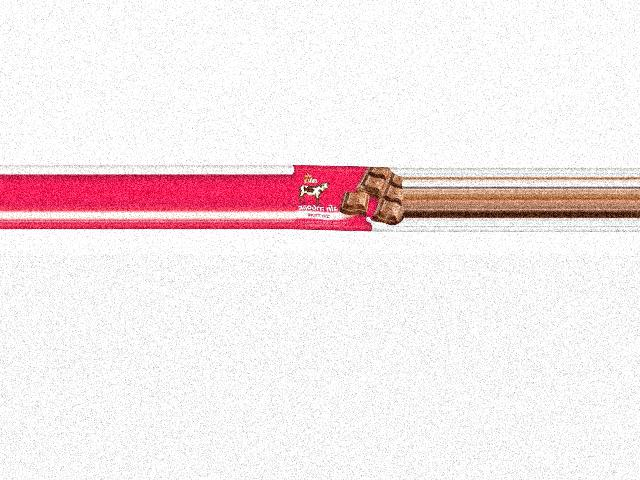chocolate: (291, 167, 403, 232)
